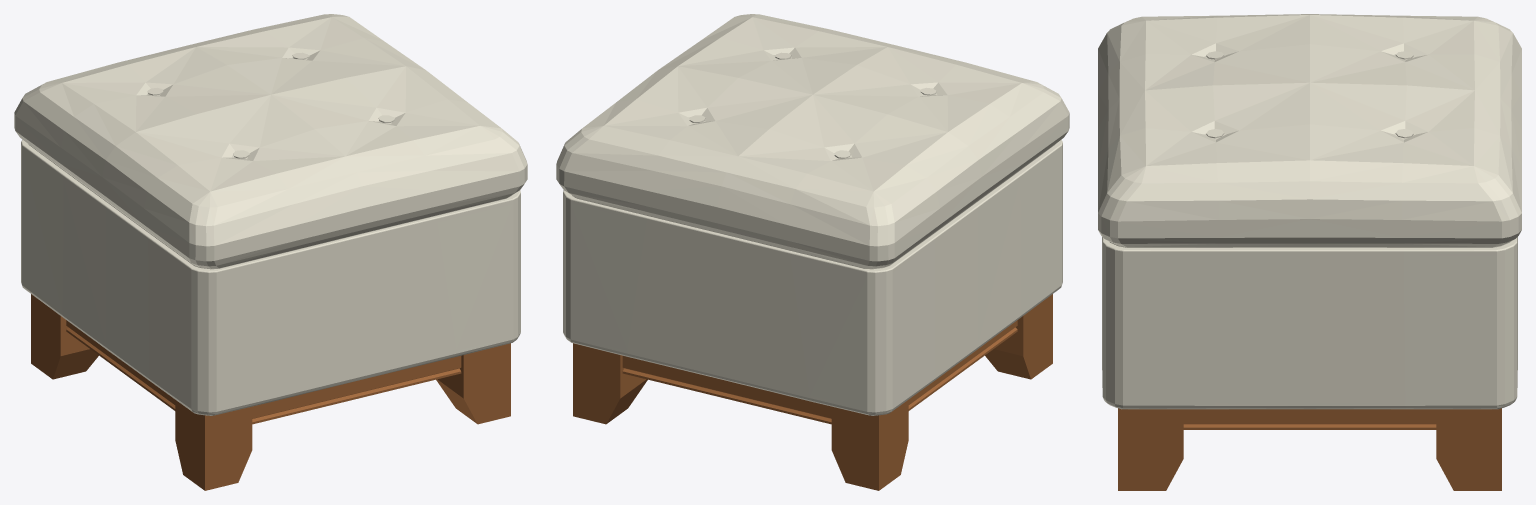
The picture shows the model from 3 angles, left to right: view 1: azimuth 30°, elevation 25°; view 2: azimuth 150°, elevation 25°; view 3: azimuth 270°, elevation 25°; orthographic projection. The views are drawn at different scales.
Parts seen in each view (by area): view 1: Node; view 2: Node; view 3: Node.
Boxes of the visible parts, <box> form: Node: <box>14,14,527,490</box>; Node: <box>556,14,1069,490</box>; Node: <box>1098,14,1521,490</box>.
Size of the model in its own units: 20.27 by 16.94 by 19.97.
